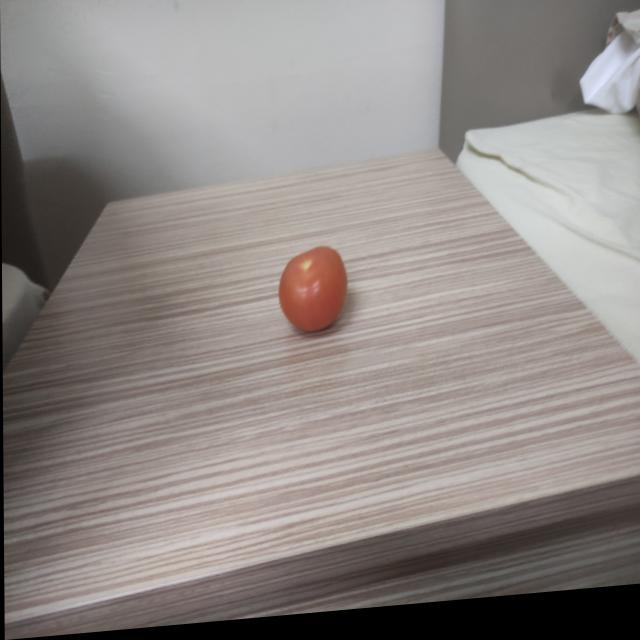sari: (270, 231, 357, 357)
